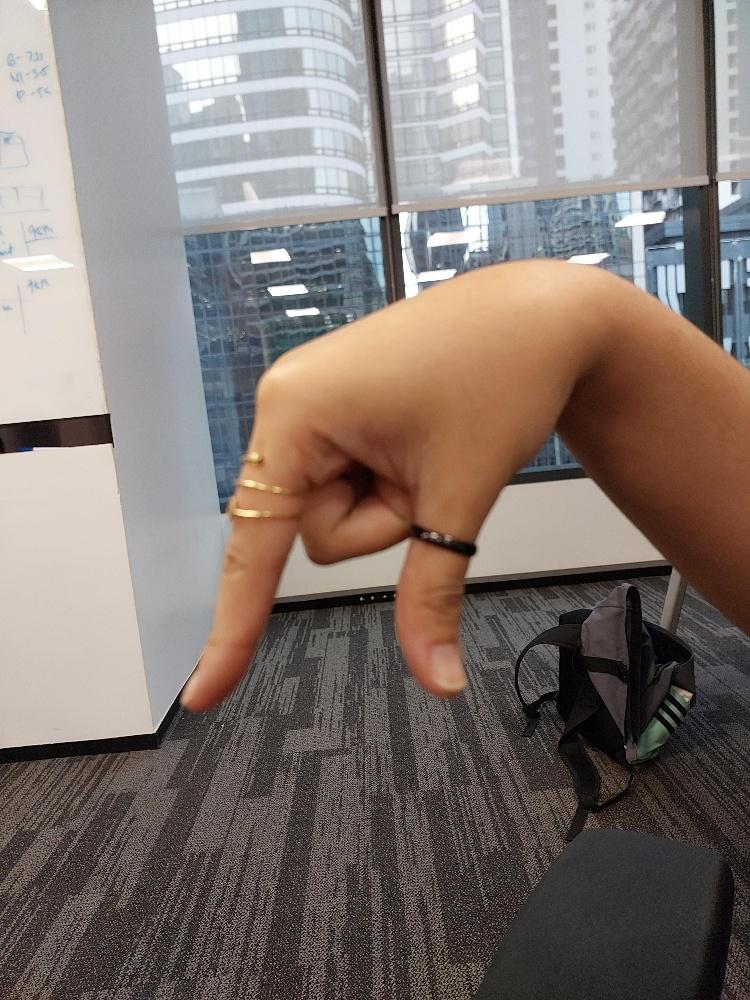q: (175, 254, 600, 716)
